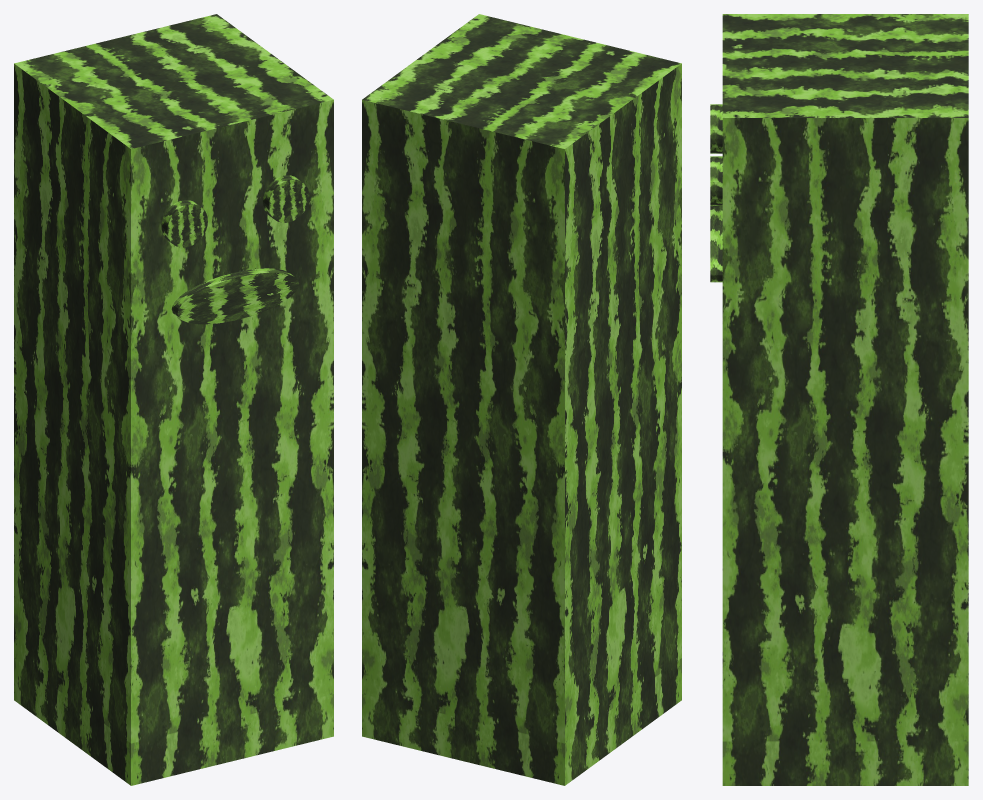
The model's file is character.glb.
3 renders of one model, left to right at view 1: azimuth 30°, elevation 25°; view 2: azimuth 150°, elevation 25°; view 3: azimuth 270°, elevation 25°, orthographic. The views are drawn at different scales.
Size of the model in its own units: 1 by 3 by 1.05.
3 materials, 3 textured.
